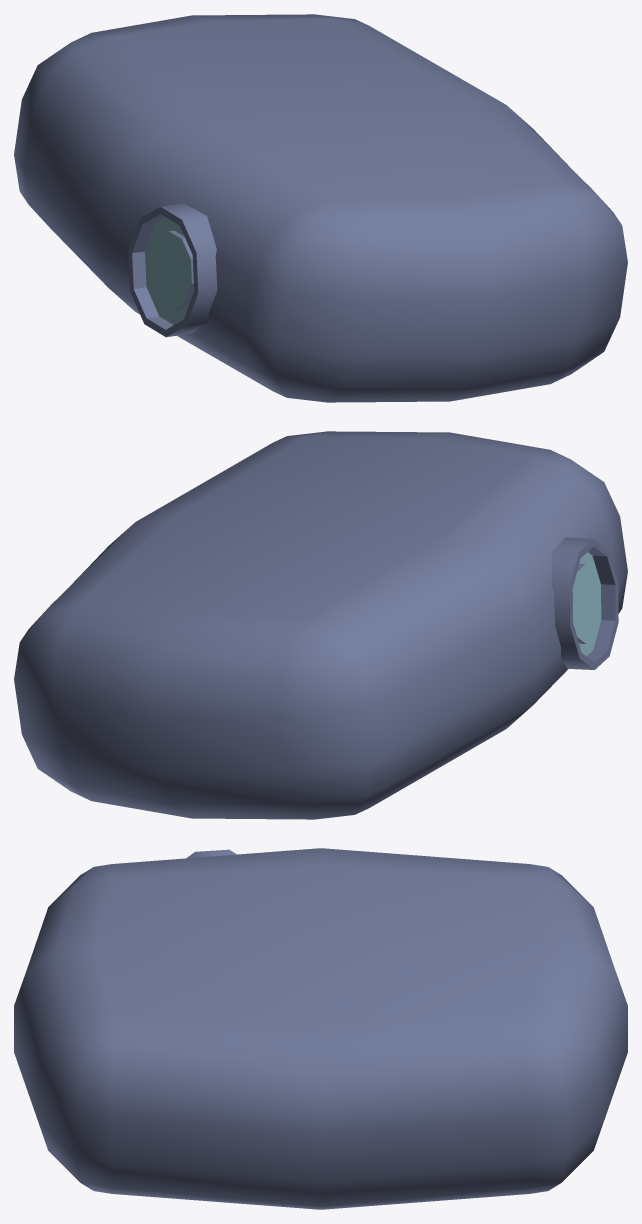
File: projector.fbx
3 renders of one model, top to bottom at view 1: azimuth 30°, elevation 25°; view 2: azimuth 150°, elevation 25°; view 3: azimuth 270°, elevation 25°, orthographic. The views are drawn at different scales.
Visible parts, largest first — view 1: Projector_498; view 2: Projector_498; view 3: Projector_498.
Part boxes in pixels (x1,y1,x2,y2): Projector_498: (14, 14, 627, 402); Projector_498: (14, 431, 627, 819); Projector_498: (14, 848, 627, 1209).
Bounding box in the file's own units: 38.88 × 19.55 × 49.57.
